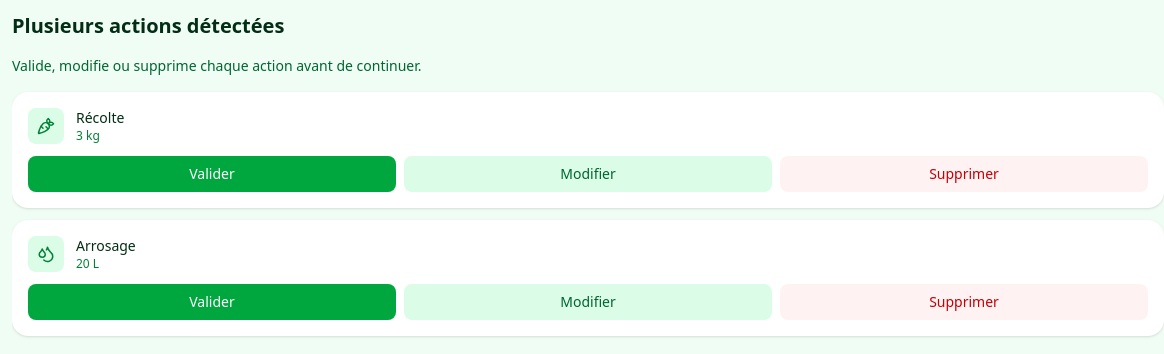
Scenario: VoiceReviewPage › Supprimer retire la carte sans rien ecrire en base
Click the 1st button "Supprimer" at (964, 174), box [780,156,1148,192]
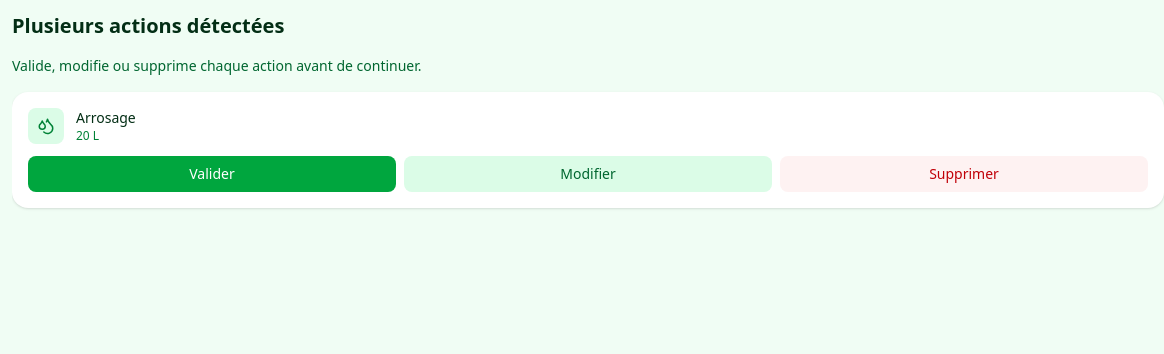
Now the text "3 kg" is gone
